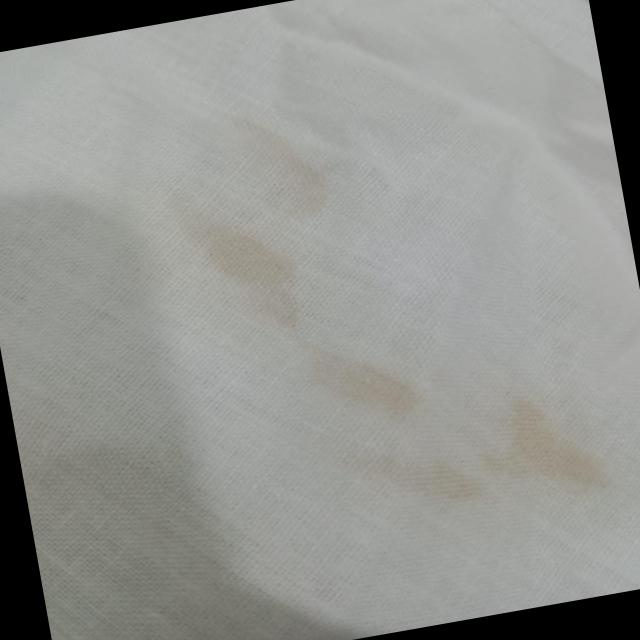stain: (284, 294, 622, 548), (141, 96, 356, 348)
